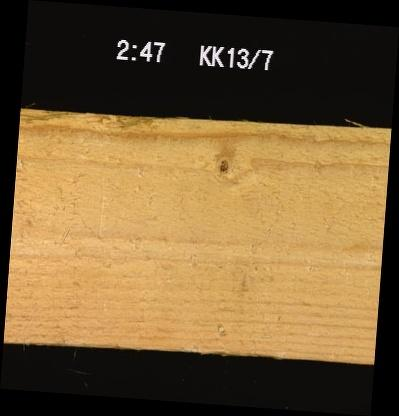dry_knot: (214, 153, 231, 178)
wave: (19, 111, 158, 128)
